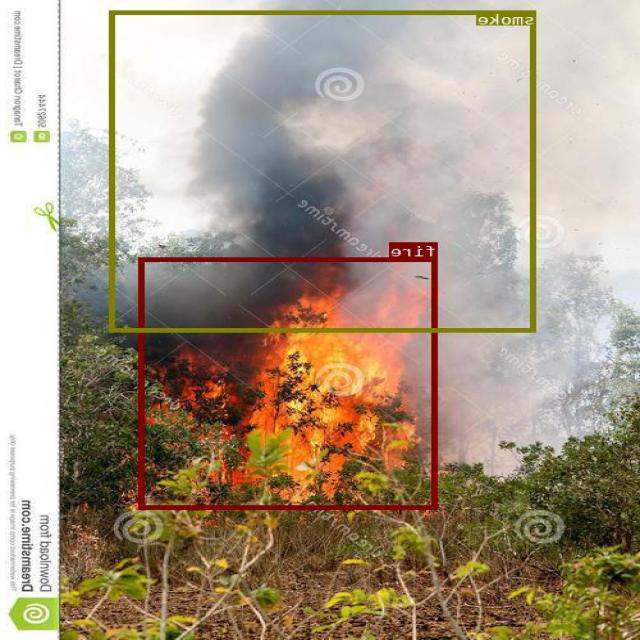fire: (140, 257, 439, 508)
smoke: (110, 9, 537, 332)
